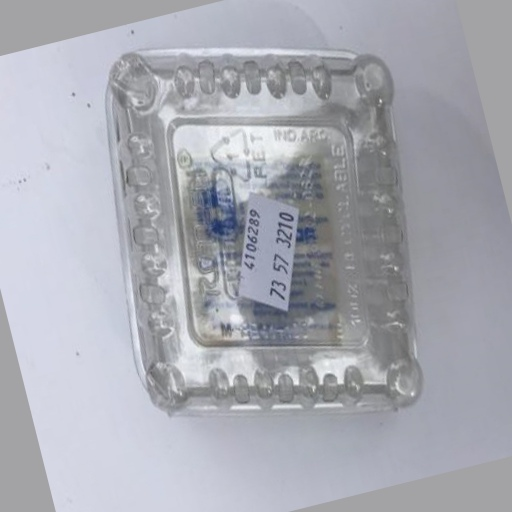Plastic_4: (104, 46, 426, 423)
